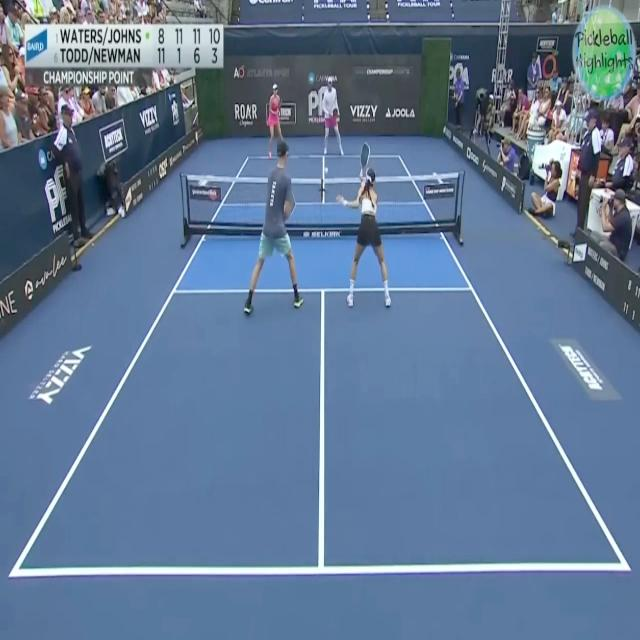Pickleball: (324, 164, 328, 176)
